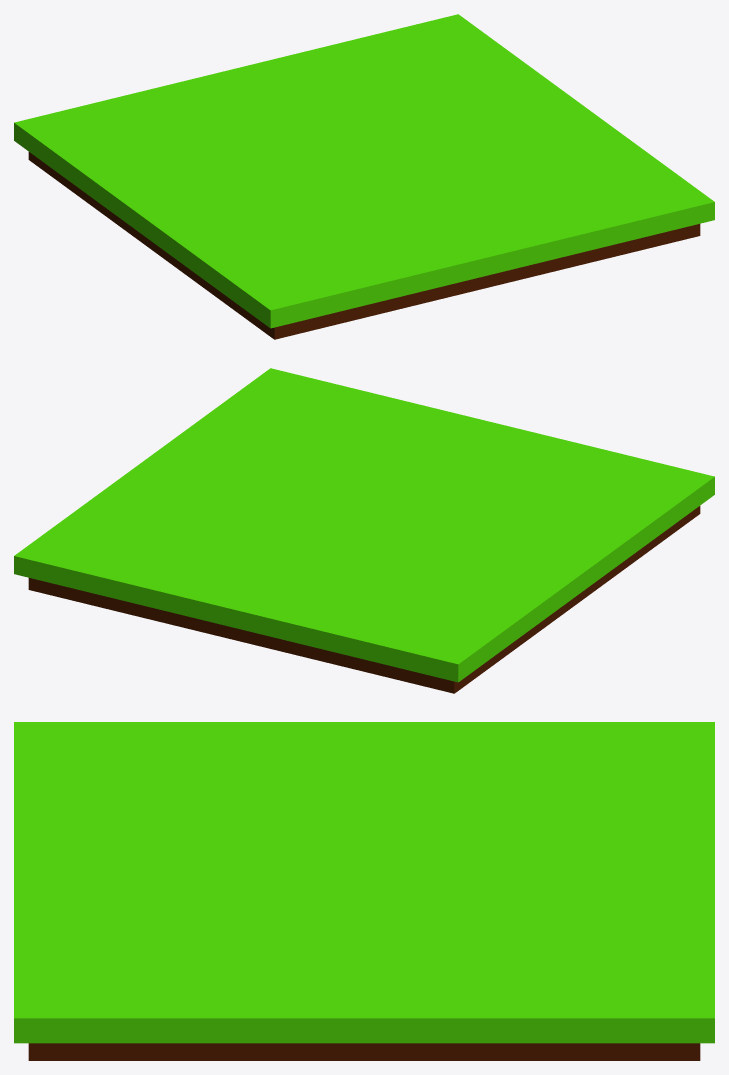
Rendered from land.fbx.
3 renders of one model, top to bottom at view 1: azimuth 30°, elevation 25°; view 2: azimuth 150°, elevation 25°; view 3: azimuth 270°, elevation 25°, orthographic. The views are drawn at different scales.
Parts seen in each view (by area): view 1: land; view 2: land; view 3: land.
Part boxes in pixels (x1=…): land: x1=14, y1=14, x2=714, y2=339; land: x1=14, y1=368, x2=714, y2=693; land: x1=14, y1=722, x2=714, y2=1060.
Size of the model in its own units: 641 by 49.05 by 641.
